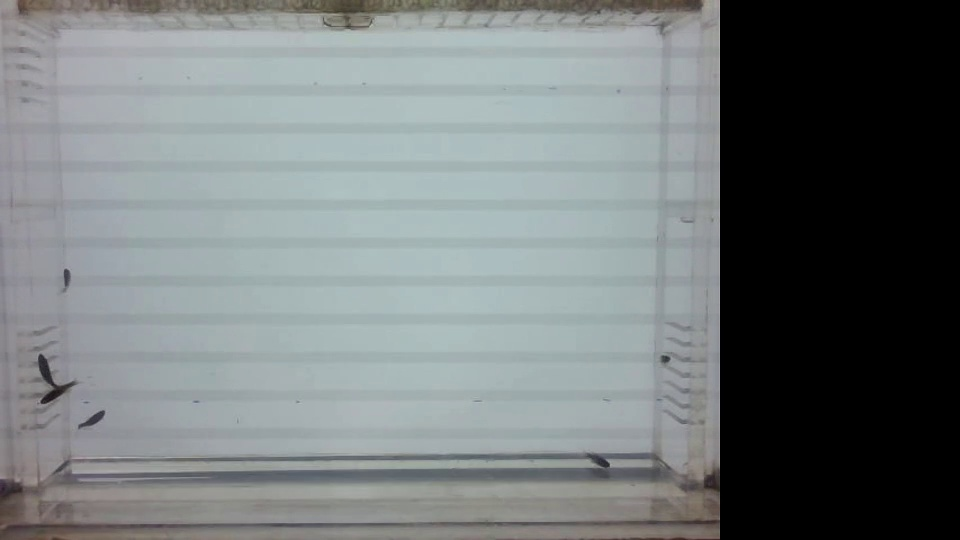fish: (31, 383, 91, 403), (76, 400, 106, 434), (32, 352, 58, 388), (576, 446, 612, 470), (53, 264, 76, 296), (656, 350, 672, 374)
